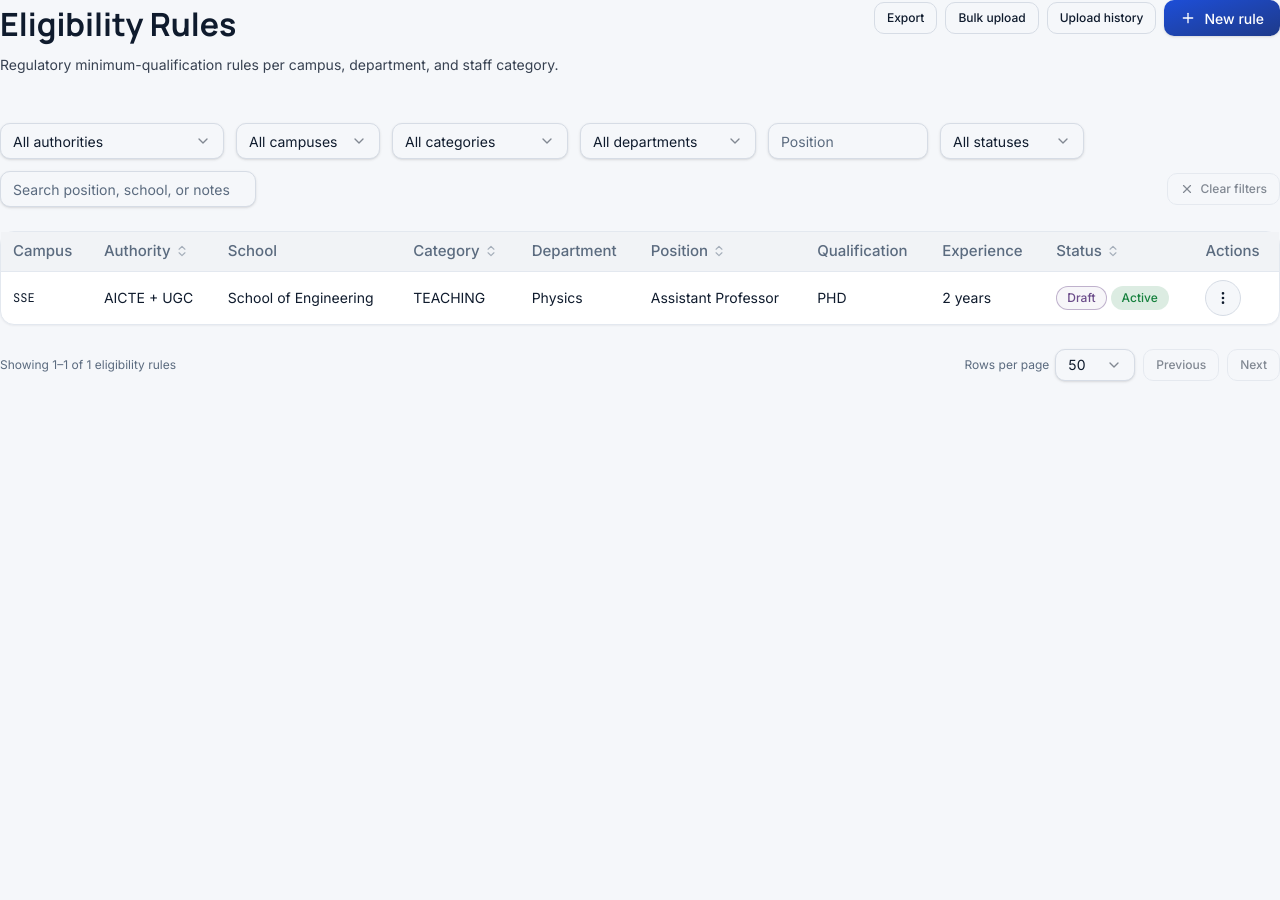
Test: EligibilityRulesPage › opens the View drawer with the full field set, including the informational-keywords caveat
The image size is (1280, 900).
Expected: the text "Assistant Professor" is shown, [639,271,805,324]
Click the button named "More actions".
click(1223, 298)  # box [1205,280,1241,316]
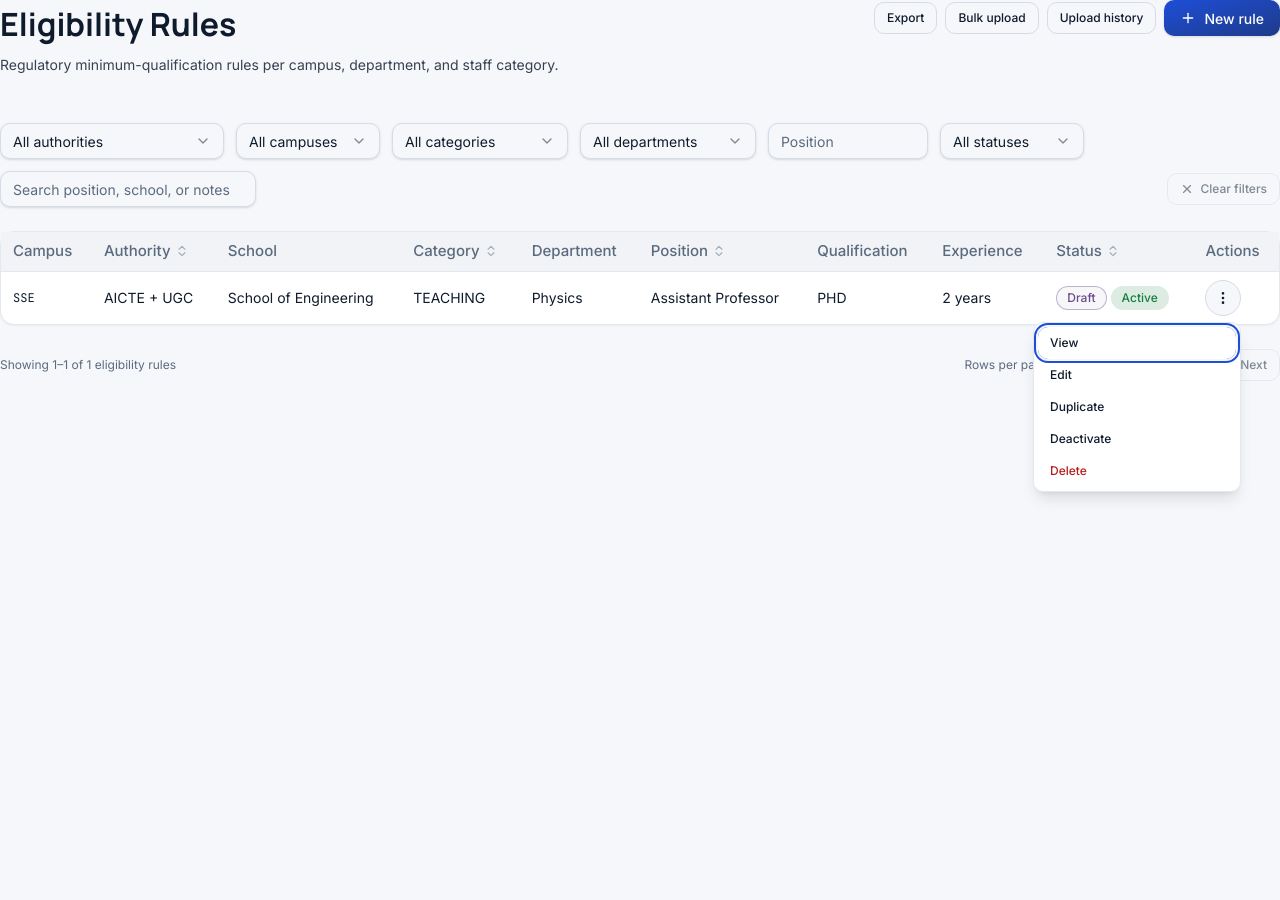
Click the button "View".
click(1137, 343)  # box [1038,327,1236,359]
(page scrolled)
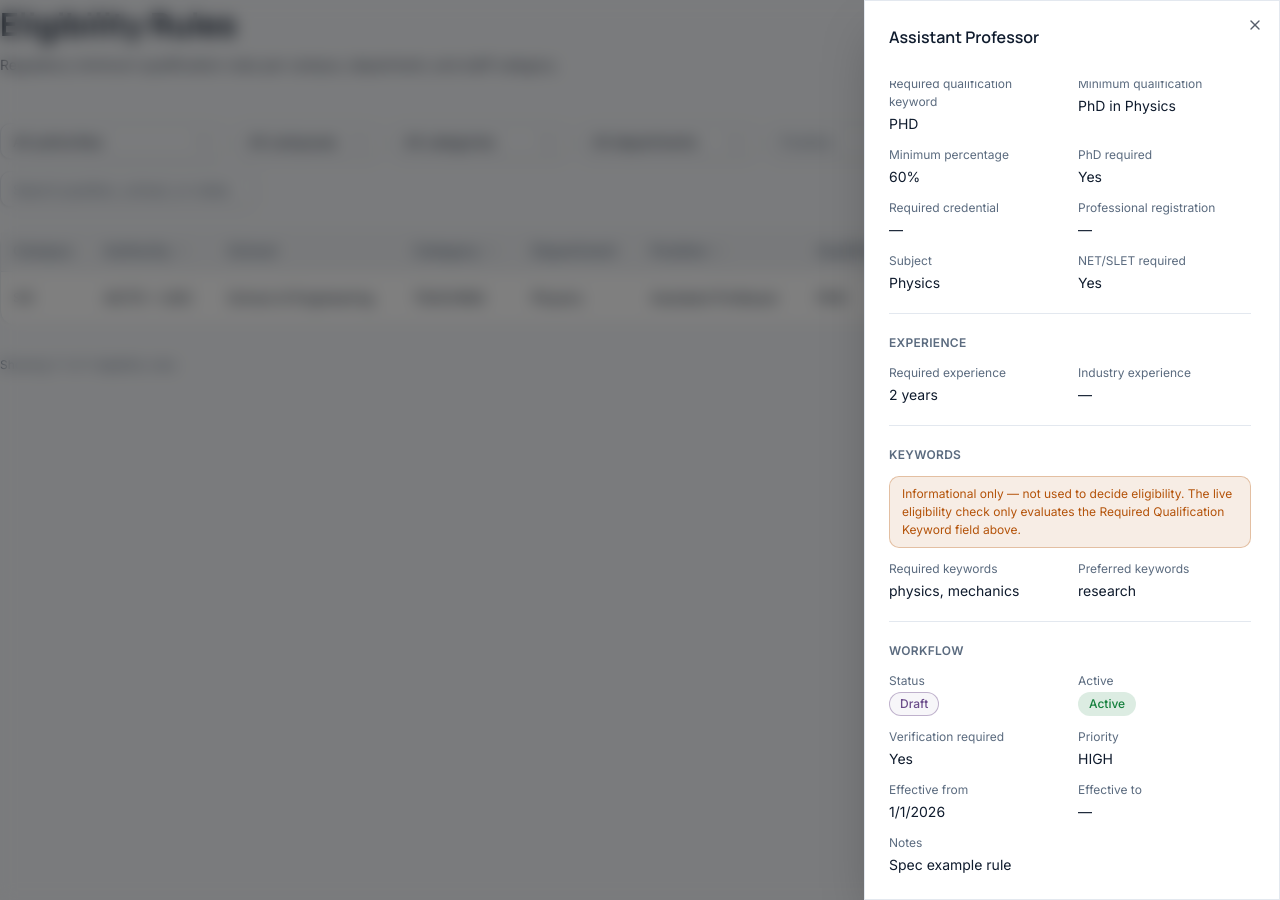
Now the text "physics, mechanics" is shown, box [889,582,1019,599]
Now the text "Informational only — not used to decide eligibility" is shown, box [902,486,1232,537]
